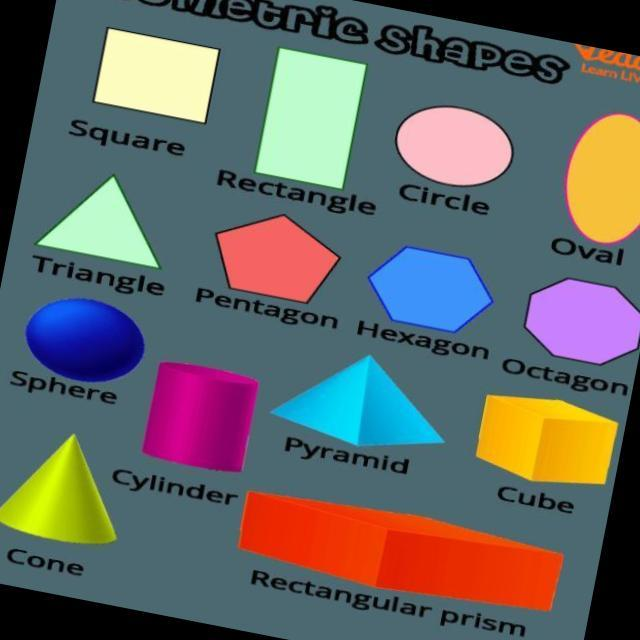circle: (8, 278, 160, 407), (386, 83, 540, 210)
square: (80, 0, 233, 151)
triangle: (23, 153, 184, 309)
